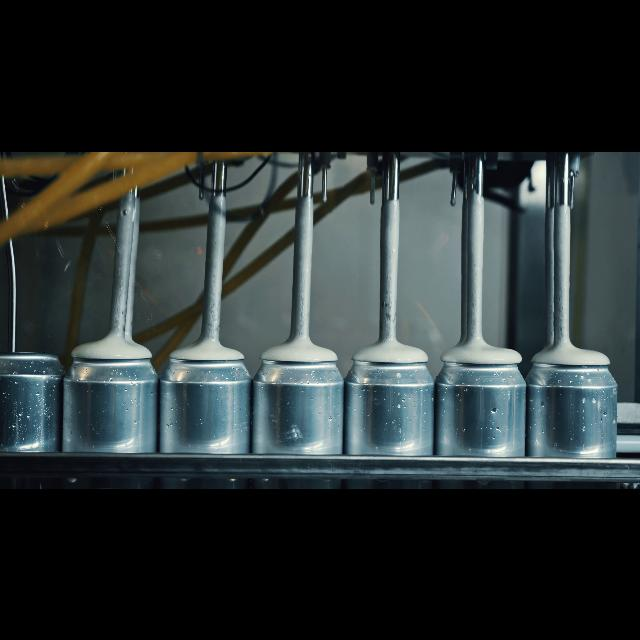empty: (1, 344, 64, 488)
full: (63, 329, 155, 488), (163, 330, 251, 488), (256, 334, 344, 488), (532, 336, 620, 488), (438, 339, 524, 488), (350, 338, 432, 488)
